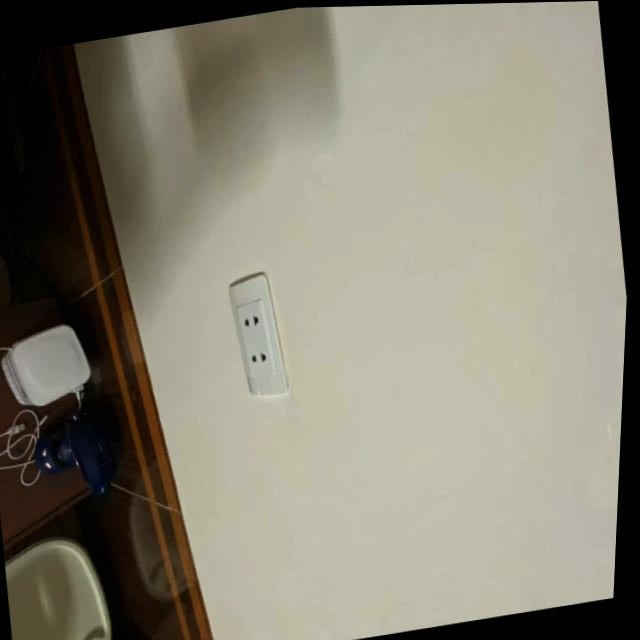outlet: (223, 269, 295, 402)
